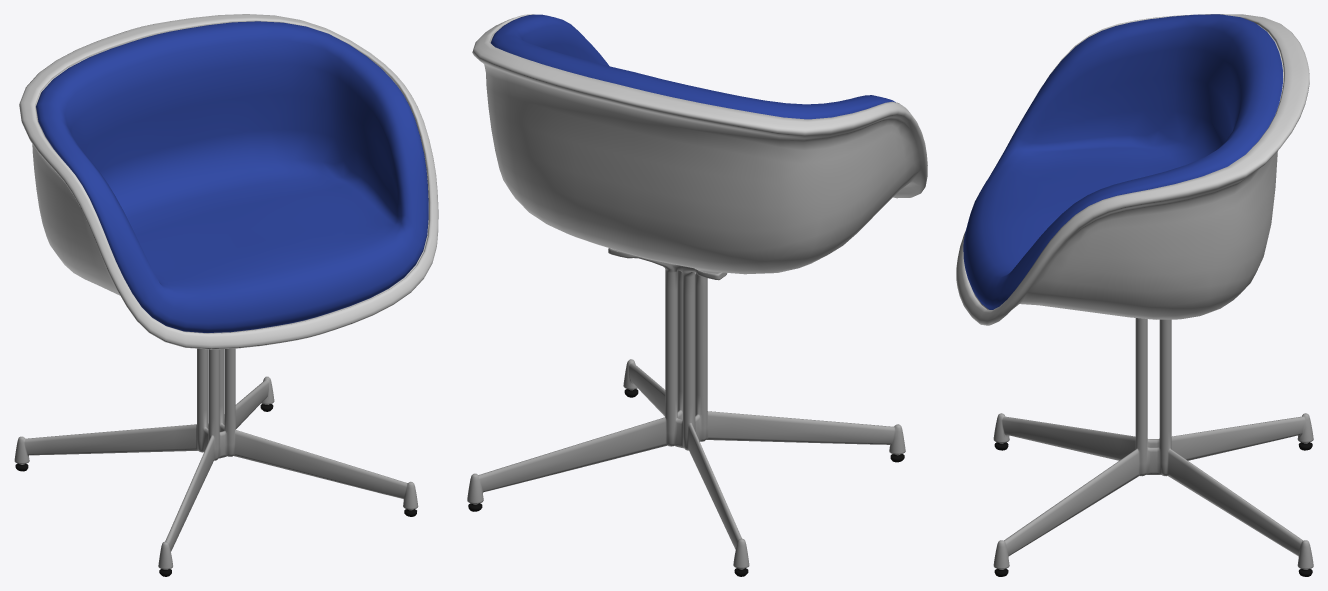
The model's file is modern_armchair.obj.
The picture shows the model from 3 angles, left to right: view 1: azimuth 30°, elevation 25°; view 2: azimuth 150°, elevation 25°; view 3: azimuth 270°, elevation 25°; orthographic projection. The views are drawn at different scales.
Parts seen in each view (by area): view 1: seat_Plane, legs_Cylinder; view 2: seat_Plane, legs_Cylinder; view 3: seat_Plane, legs_Cylinder.
Boxes of the visible parts, <box> form: seat_Plane: <box>19,14,438,349</box>; legs_Cylinder: <box>14,348,418,576</box>; seat_Plane: <box>472,14,927,274</box>; legs_Cylinder: <box>467,248,905,576</box>; seat_Plane: <box>956,14,1309,325</box>; legs_Cylinder: <box>993,318,1313,576</box>.
Size of the model in its own units: 80.49 by 91.95 by 67.52.
